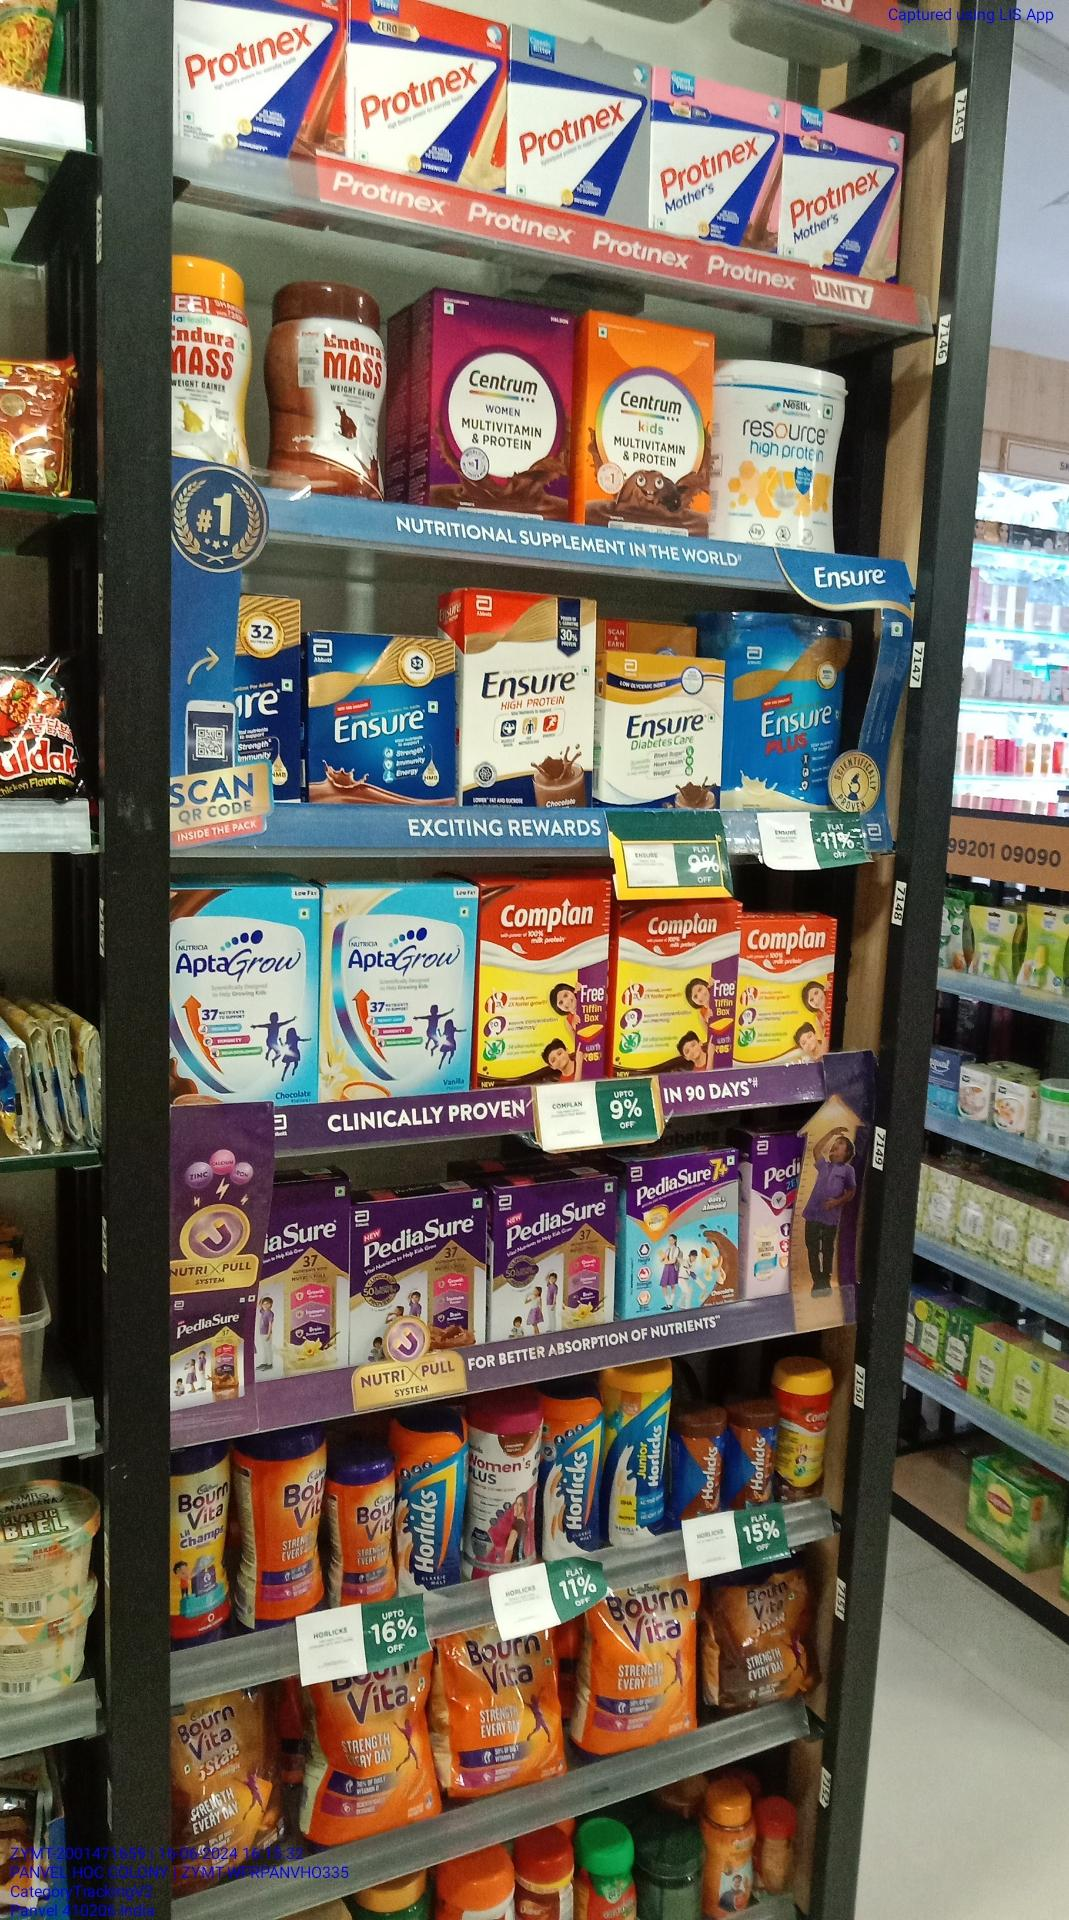BOURN_VITA_1_KG_POUCH: (308, 1683, 436, 1821), (444, 1641, 566, 1781), (590, 1599, 698, 1733)
BOURN_VITA_200_G_JAR: (334, 1467, 396, 1600)
BOURN_VITA_500_G_JAR: (237, 1430, 329, 1613)
BOURN_VITA_CHAMPS_500_G_JAR: (169, 1441, 229, 1649)
BOURN_VITA_FIVE_STAR_MAGIC_500_G_POUCH: (712, 1579, 821, 1696)
BOURN_VITA_FIVE_STAR_MAGIC_750_G_POUCH: (172, 1684, 269, 1896)
COMPLAN_CHOCOLATE_500_GMS_PACK: (479, 886, 604, 1083), (616, 905, 732, 1067)
COMPLAN_KESAR_BADAM_200_GMS_PACK: (737, 920, 837, 1066)
HORLICKS_JUNIOR_VANILLA_500_GM_JAR: (603, 1366, 670, 1546)
HORLICK_CHOCOLATE_200_G_JAR: (674, 1415, 724, 1517), (728, 1407, 778, 1505)
HORLICK_CLASSIC_MALT_500_G_JAR: (402, 1413, 463, 1587), (546, 1392, 596, 1553)
PEDIASURE_7_PLUS_CHOCOLATE_400_G_PACK: (623, 1159, 739, 1308)
PEDIASURE_CHOCOLATE_500_G_PACK: (353, 1211, 486, 1349)
PEDIASURE_VANILLA_500_G_PACK: (496, 1187, 612, 1325)
